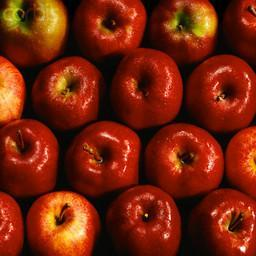apple: (64, 124, 143, 203), (110, 48, 182, 129), (144, 131, 222, 205), (33, 59, 105, 136), (185, 57, 254, 134), (104, 184, 181, 253), (25, 190, 100, 255), (148, 1, 217, 66), (71, 1, 146, 60), (1, 1, 68, 67), (1, 128, 61, 201), (188, 194, 254, 256), (221, 1, 255, 66), (225, 126, 256, 194)
